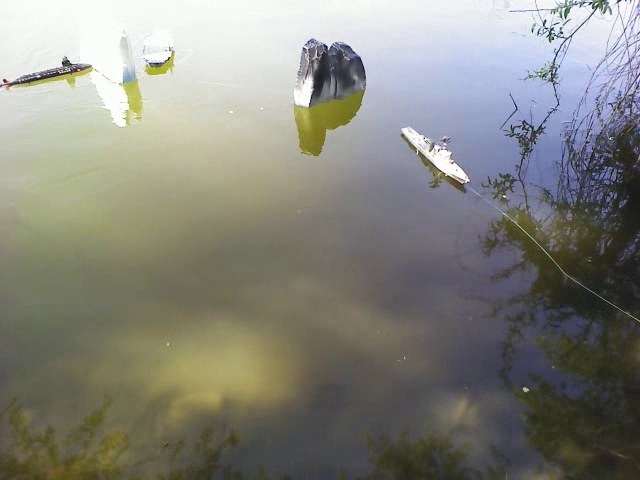aircraft_carrier: (138, 21, 178, 70)
iceberg: (81, 4, 142, 85)
rock: (293, 33, 371, 106)
submarine: (6, 53, 94, 88)
warship: (398, 122, 474, 184)
